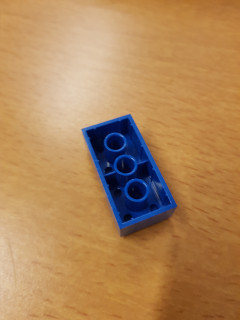2x4 blue: (77, 110, 179, 237)
